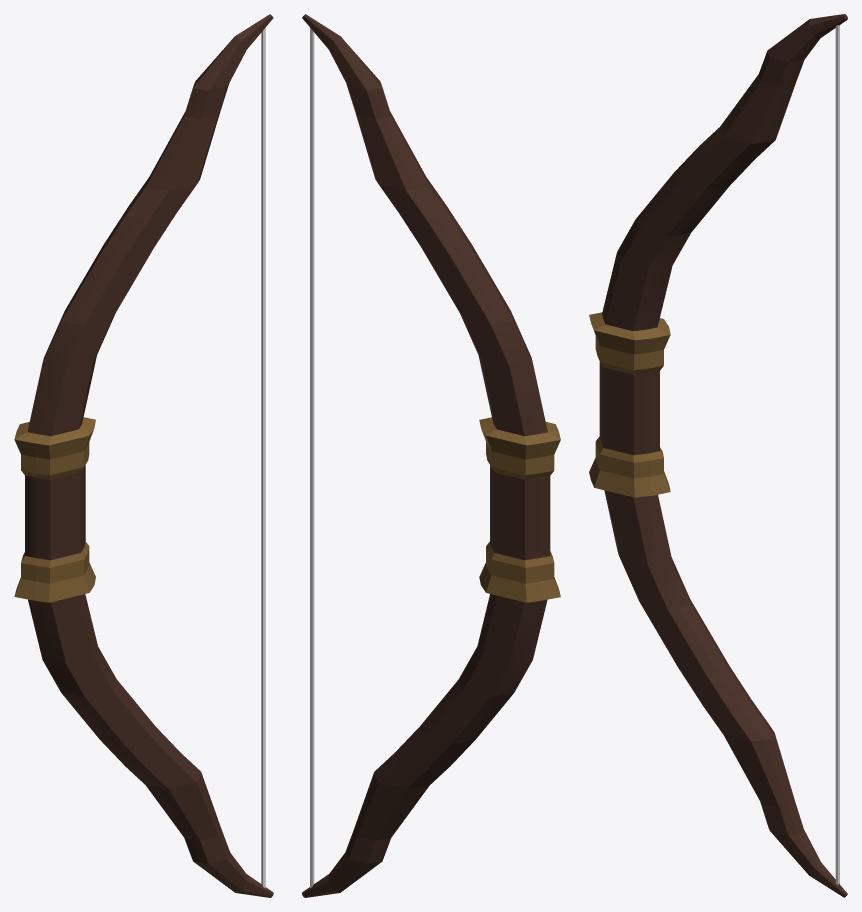
File: Archer.fbx
3 renders of one model, left to right at view 1: azimuth 30°, elevation 25°; view 2: azimuth 150°, elevation 25°; view 3: azimuth 330°, elevation 25°, orthographic.
Visible parts, largest first — view 1: pCube1, pCube2; view 2: pCube1, pCube2; view 3: pCube1, pCube2.
Boxes of the visible parts, box(x1,y1,x2,y2) form: pCube1: box(14, 14, 273, 897); pCube2: box(261, 28, 265, 888); pCube1: box(302, 14, 560, 897); pCube2: box(310, 28, 314, 888); pCube1: box(589, 14, 847, 897); pCube2: box(835, 25, 839, 885).
Bounding box in the file's own units: 11.16 × 36.41 × 2.17.
